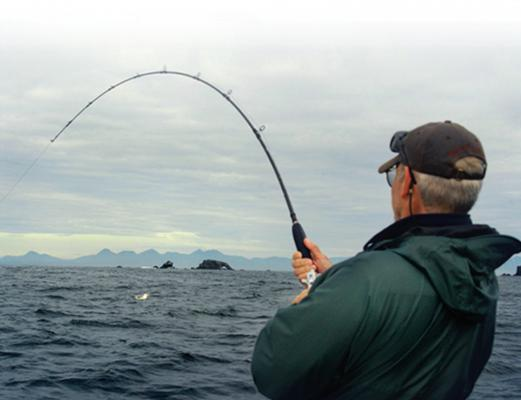person: (253, 122, 502, 400)
